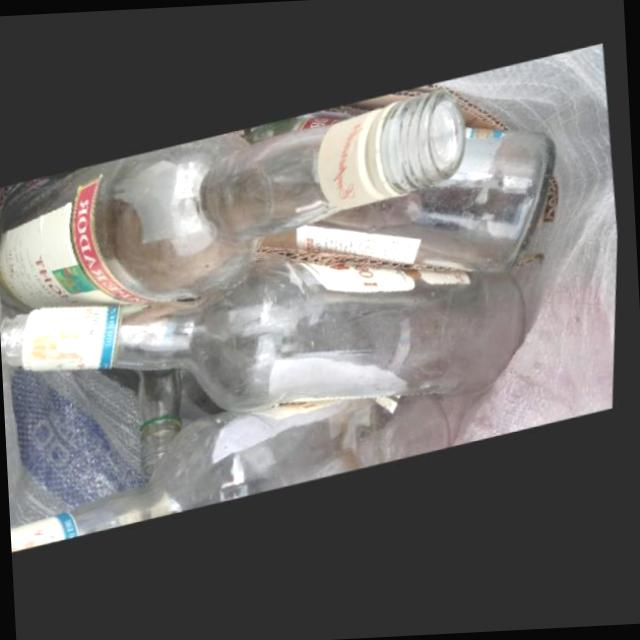carton: (299, 91, 512, 138), (258, 251, 459, 277)
chai_thuy_tinh: (0, 97, 469, 313), (26, 260, 532, 414), (11, 401, 457, 553), (265, 135, 551, 279), (145, 371, 189, 480)
